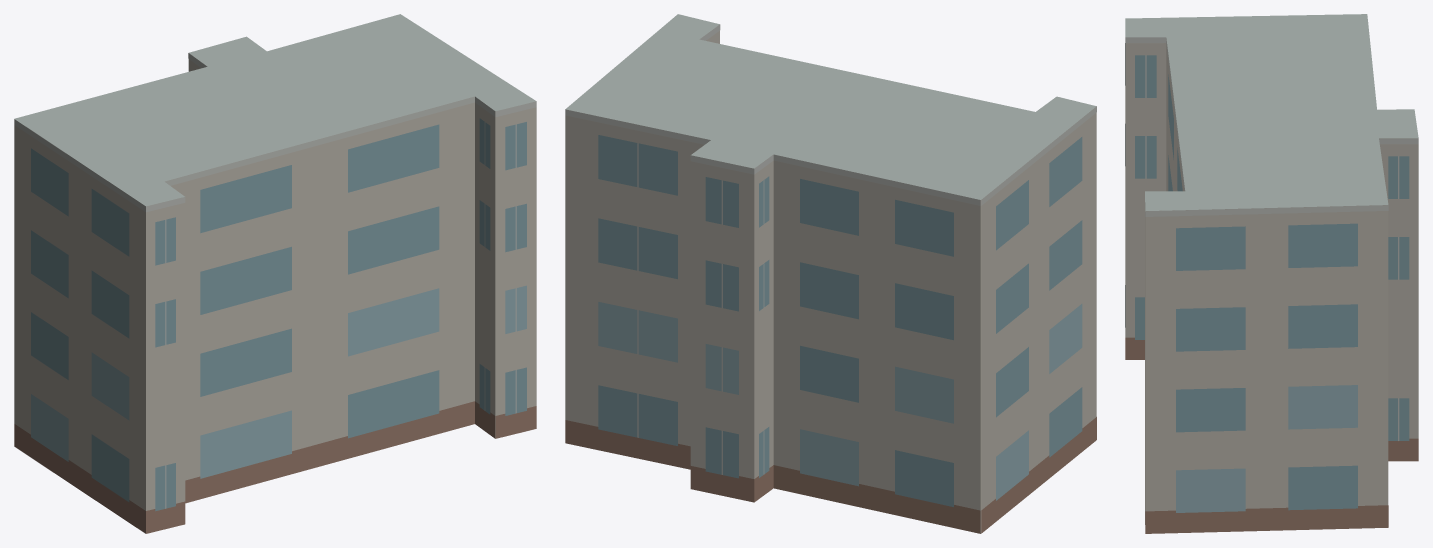
The model's file is survey-upis-32733328.glb.
3 views of the same model, side by side, from view 1: azimuth 30°, elevation 25°; view 2: azimuth 150°, elevation 25°; view 3: azimuth 270°, elevation 25° (orthographic). The views are drawn at different scales.
Parts seen in each view (by area): view 1: survey-upis-32733328.tmp; view 2: survey-upis-32733328.tmp; view 3: survey-upis-32733328.tmp.
Part boxes in pixels (bbox=[...]): survey-upis-32733328.tmp: bbox=[14, 14, 536, 533]; survey-upis-32733328.tmp: bbox=[565, 14, 1096, 533]; survey-upis-32733328.tmp: bbox=[1125, 14, 1418, 533].
Size of the model in its own units: 17.57 by 13.4 by 11.06.
